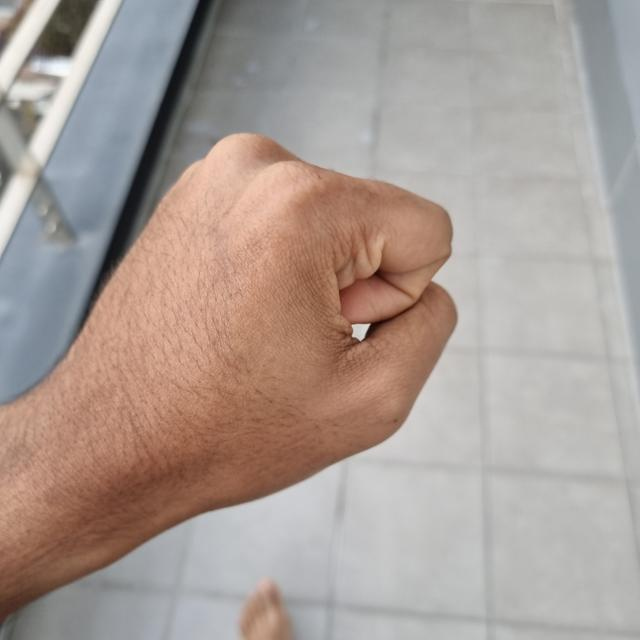Rock: (41, 134, 455, 511)
